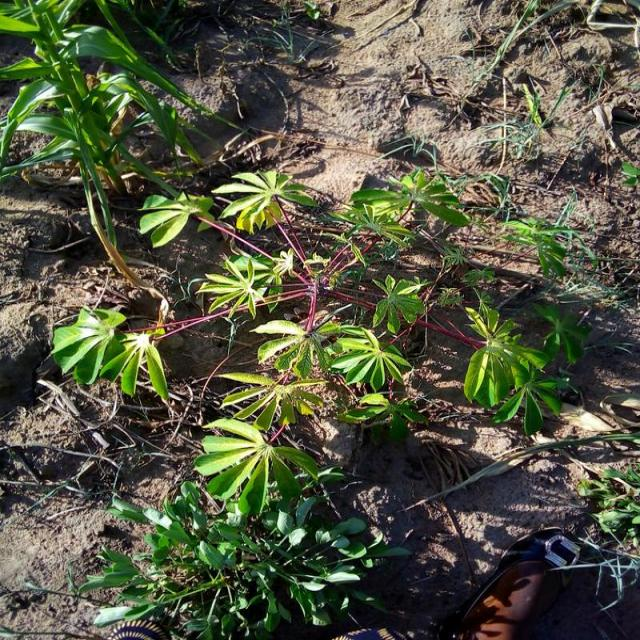cassava leaf: (211, 168, 317, 234), (52, 305, 129, 385), (140, 190, 214, 248)
